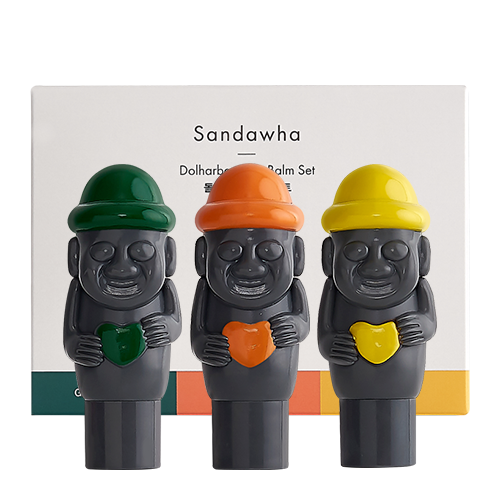Stone Statue: (47, 152, 183, 481), (306, 148, 437, 481), (187, 160, 309, 485)
